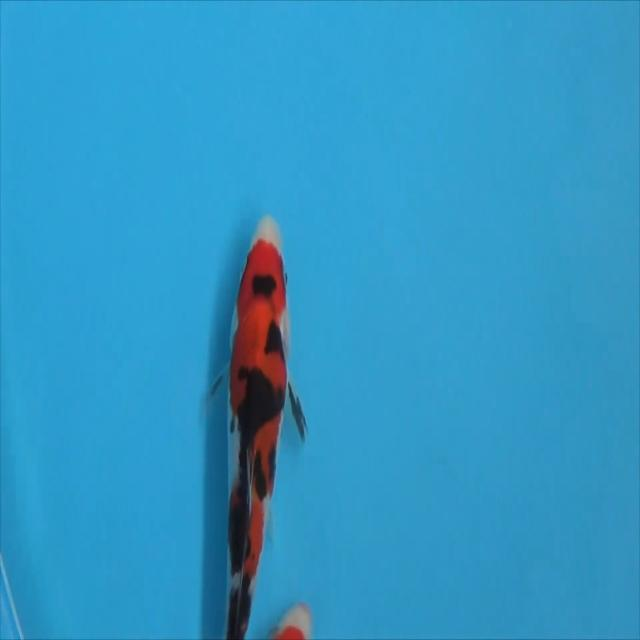Sanke: (209, 214, 308, 638)
